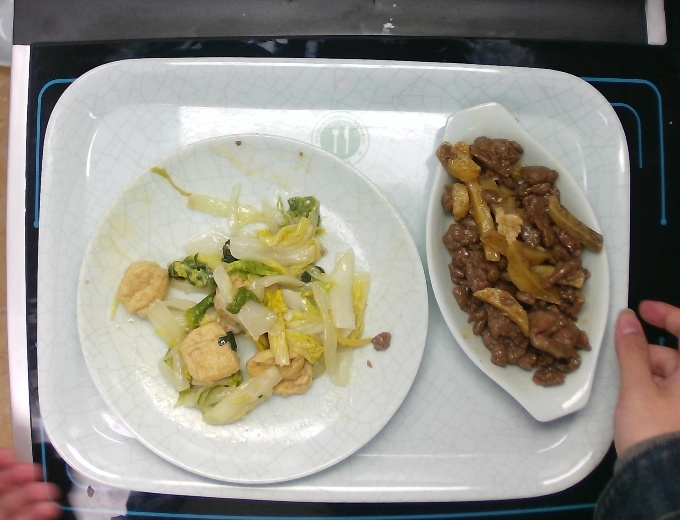JYsf-Da_Yuan_Pan: (69, 123, 435, 490)
JYsf-Yu_Pan: (416, 97, 615, 430)
